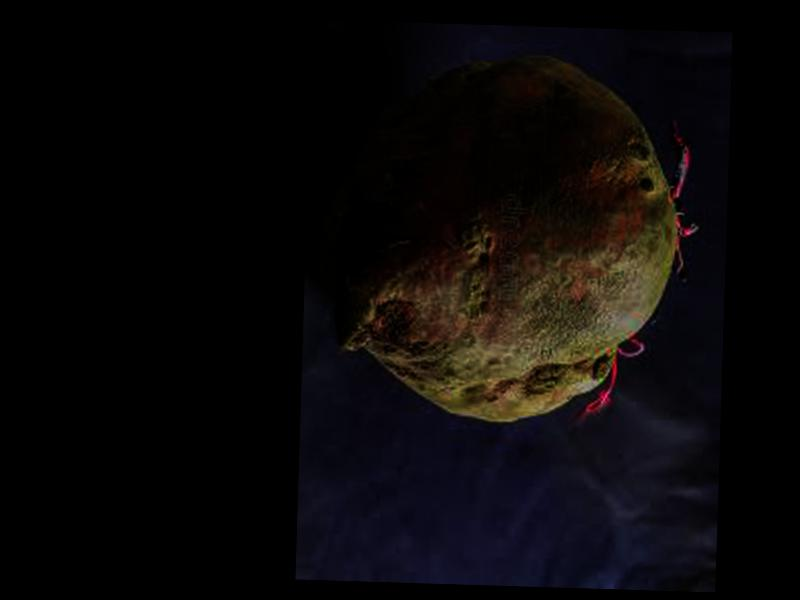Beet: (317, 51, 699, 428)
